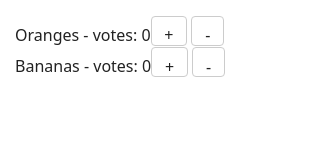
Test: GroceryApp Component › increments vote count when upvote button is clicked
The image size is (320, 160).
# Find and click the upvote button for Oranges
Click the button "+" in the row of "Oranges". click: (169, 31)
box: x1=151 y1=16 x2=187 y2=46
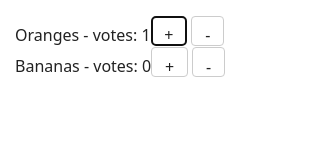
Check: the text "votes: 1" is shown, box x1=93 y1=24 x2=151 y2=46
